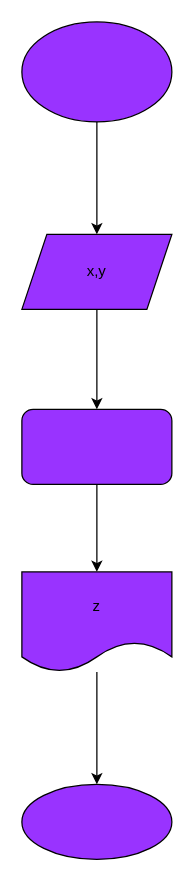
The diagram is 194 pixels wide and 881 high, and some of its shapes have lost their labels. The shapes that lost their labels are listed below. From the top down, each one's centre as x and y in pixels, then its label:
the point at 96,71: Inicio
the point at 96,446: z = x**y
